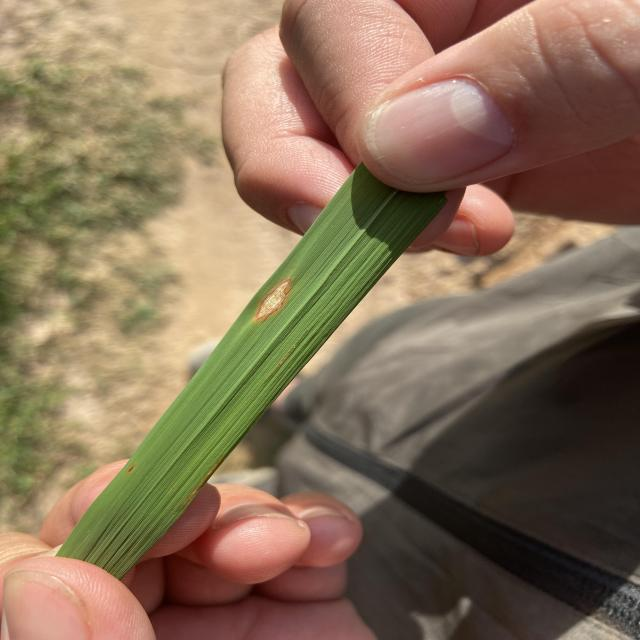Dao on: (255, 278, 291, 321)
